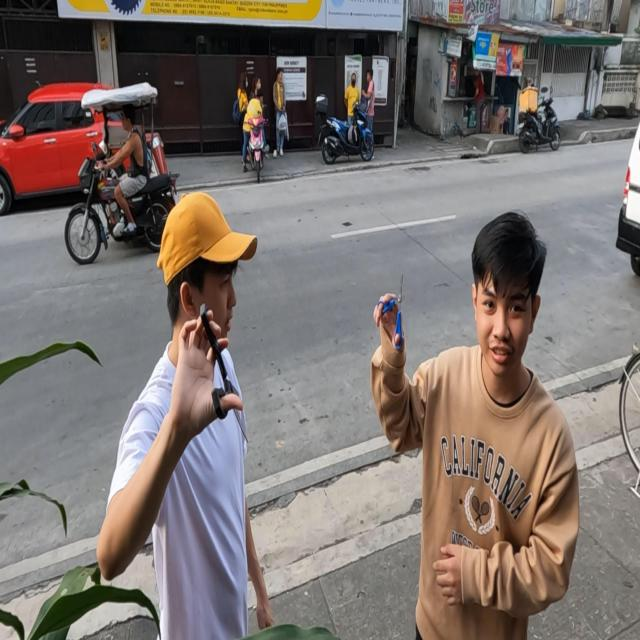scissor: (195, 289, 250, 441), (377, 274, 409, 350)
